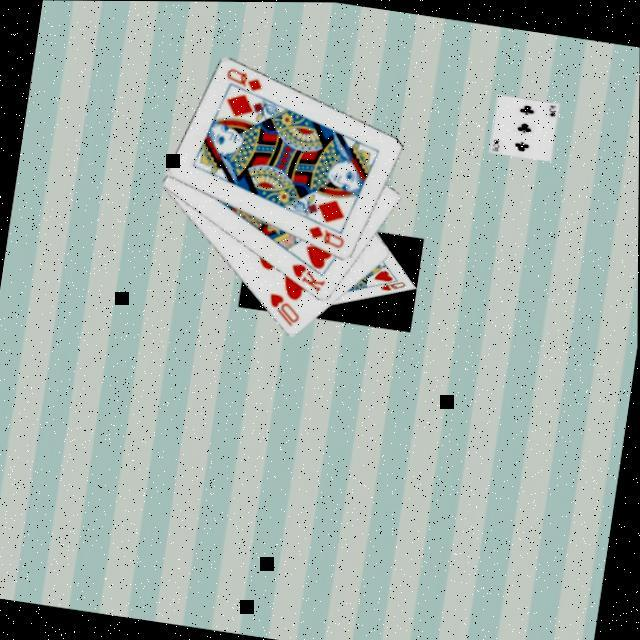10H: (264, 288, 306, 328)
KH: (288, 258, 332, 295)
QD: (222, 63, 268, 94), (304, 220, 350, 250)
